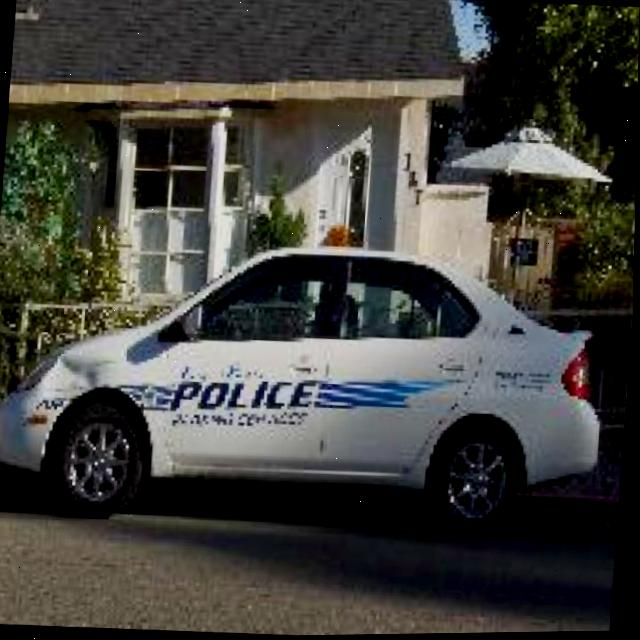emergency: (0, 218, 617, 546)
